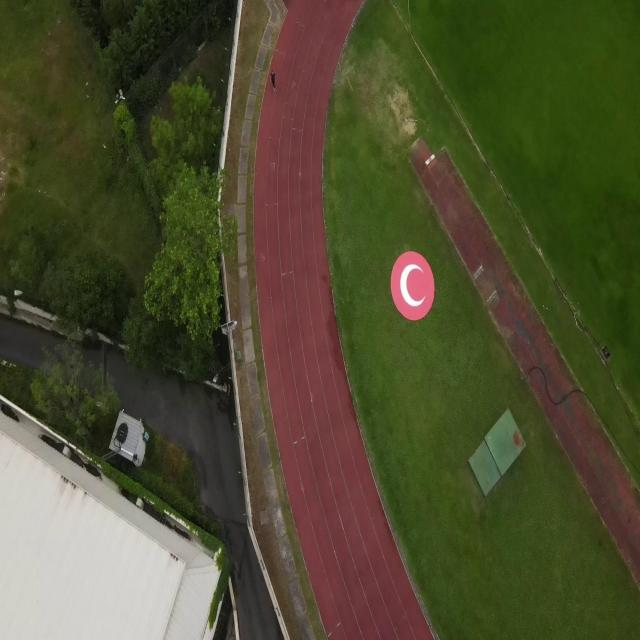p3rson: (270, 70, 276, 92)
